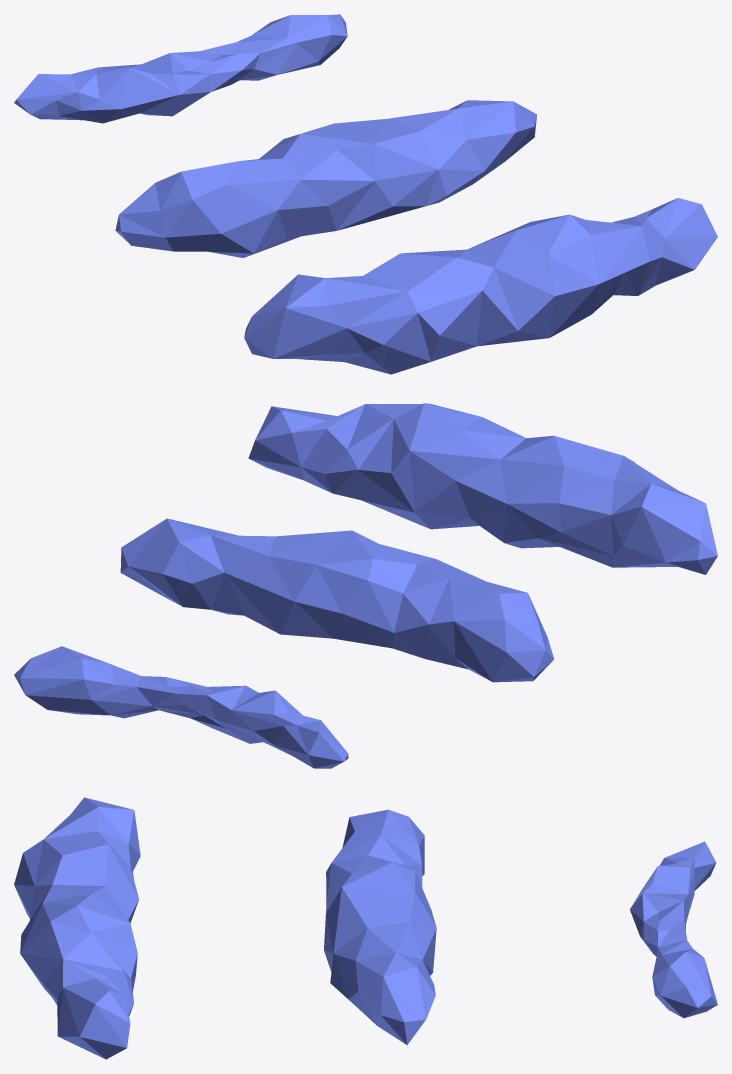
File: shards_ability01.fbx
The picture shows the model from 3 angles, top to bottom: view 1: azimuth 30°, elevation 25°; view 2: azimuth 150°, elevation 25°; view 3: azimuth 270°, elevation 25°; orthographic projection. The views are drawn at different scales.
Parts seen in each view (by area): view 1: shard)b, shard_m, shard_s; view 2: shard)b, shard_m, shard_s; view 3: shard)b, shard_m, shard_s.
Boxes of the visible parts, <box> form: shard)b: <box>244,198,717,374</box>; shard_m: <box>115,100,536,257</box>; shard_s: <box>14,14,347,123</box>; shard)b: <box>248,403,717,574</box>; shard_m: <box>120,518,553,682</box>; shard_s: <box>14,646,348,768</box>; shard)b: <box>14,797,140,1059</box>; shard_m: <box>324,809,436,1044</box>; shard_s: <box>630,841,717,1018</box>.
Size of the model in its own units: 80.1 by 18.26 by 108.
